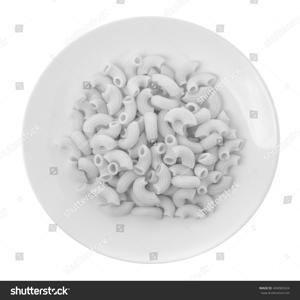pasta: (53, 51, 245, 229)
